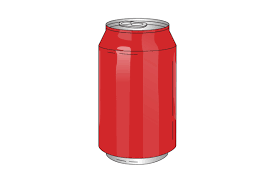can: (98, 19, 178, 164)
